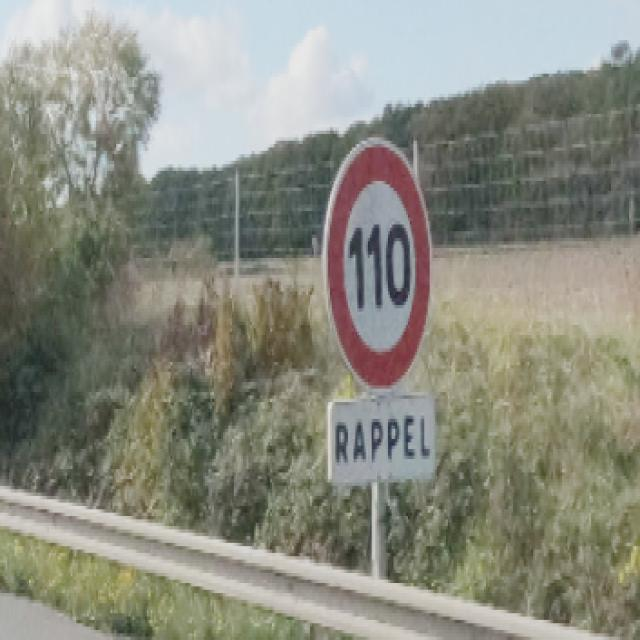speed_110: (322, 136, 433, 398)
